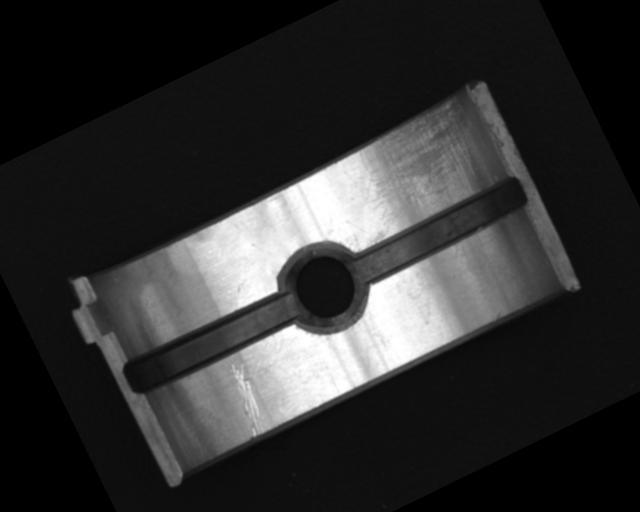gap: (346, 172, 532, 291), (118, 285, 301, 401)
hole: (266, 229, 381, 344)
nick: (219, 359, 276, 439)
scratch: (328, 88, 504, 244)
